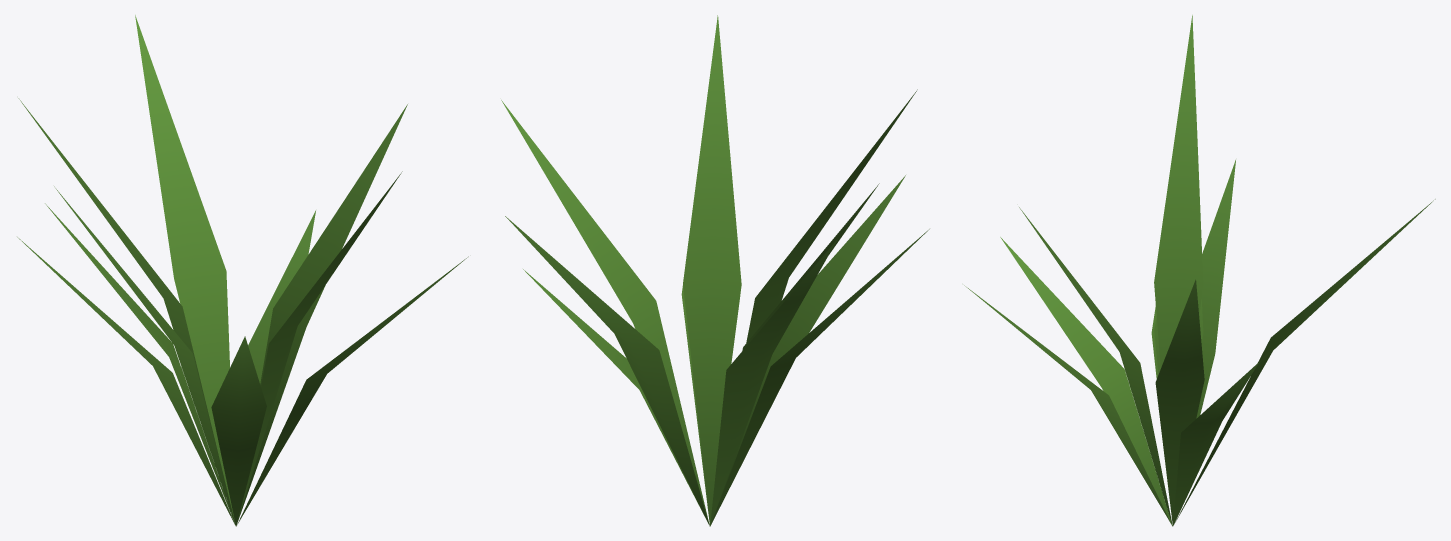
Rendered from tuft-3.glb.
The picture shows the model from 3 angles, left to right: view 1: azimuth 30°, elevation 25°; view 2: azimuth 150°, elevation 25°; view 3: azimuth 270°, elevation 25°; orthographic projection. The views are drawn at different scales.
Parts seen in each view (by area): view 1: tuft-3; view 2: tuft-3; view 3: tuft-3.
Boxes of the visible parts, x1,y1,x2,y2 form: tuft-3: [17, 15, 468, 526]; tuft-3: [501, 15, 929, 526]; tuft-3: [964, 15, 1435, 526].
Size of the model in its own units: 0.4156 by 0.4696 by 0.4792.
